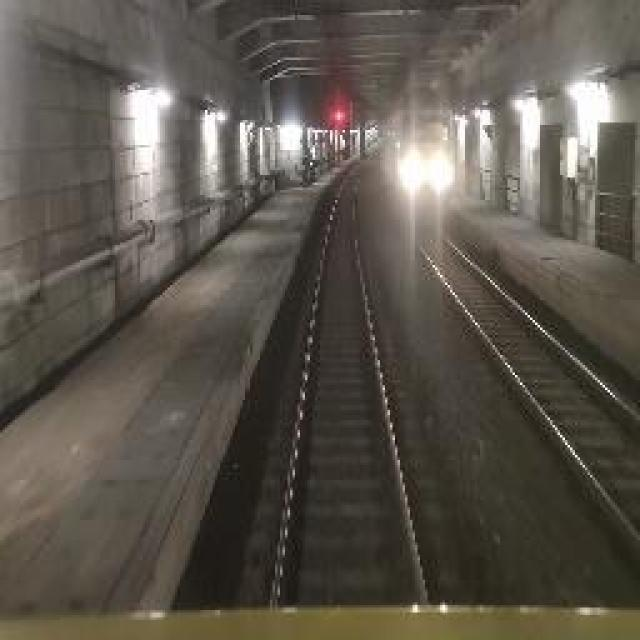rail: (237, 158, 463, 607)
